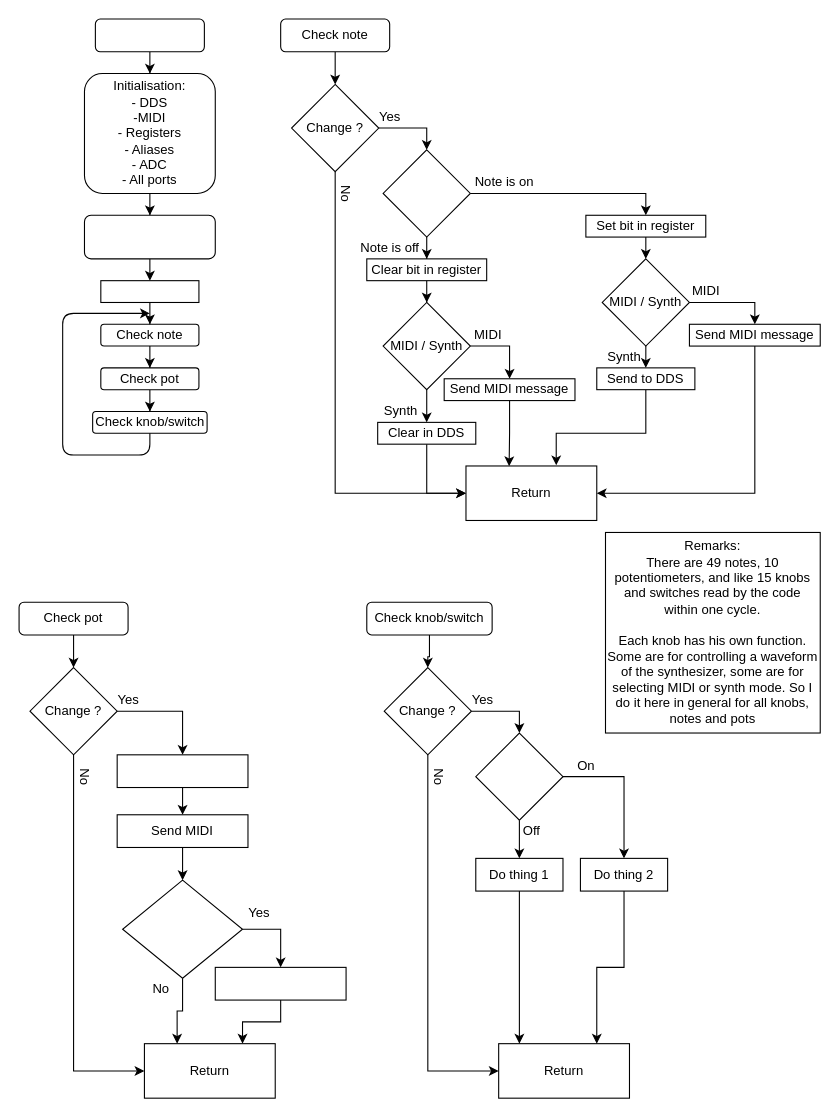
The diagram is 839 pixels wide and 1117 high, and some of its shapes have lost their labels. The shapes that lost their labels are listed below. From the top down, each one's centre as x and y in pixels, then its label:
the point at 149,35: Start
the point at 426,193: On / Off ?
the point at 149,236: Initialisation: Reset all values
the point at 149,291: Main Loop
the point at 182,771: Replace in register
the point at 519,776: On / Off
the point at 182,928: Special potentiometer ?
the point at 280,983: Do the special thing
